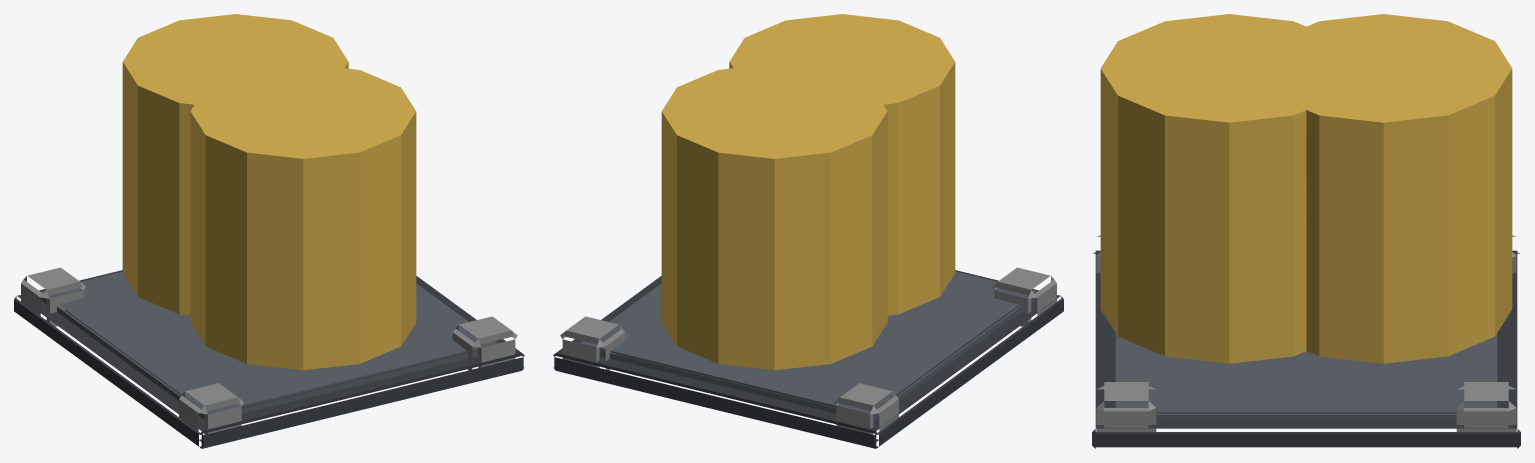
Rendered from con_battery.glb.
The picture shows the model from 3 angles, left to right: view 1: azimuth 30°, elevation 25°; view 2: azimuth 150°, elevation 25°; view 3: azimuth 270°, elevation 25°; orthographic projection. The views are drawn at different scales.
Parts seen in each view (by area): view 1: body; view 2: body; view 3: body.
Boxes of the visible parts, x1,y1,x2,y2 form: body: (14,14,524,448); body: (553,14,1063,448); body: (1092,14,1520,448).
Size of the model in its own units: 48 by 36 by 48.
